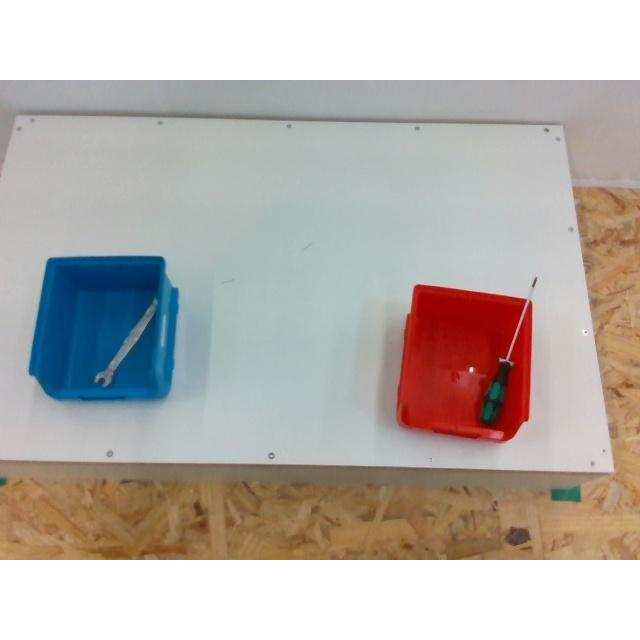Screwdriver: (481, 274, 539, 424)
Wrench: (93, 302, 157, 386)
container_box_blue: (29, 255, 179, 400)
container_box_red: (399, 284, 533, 440)
